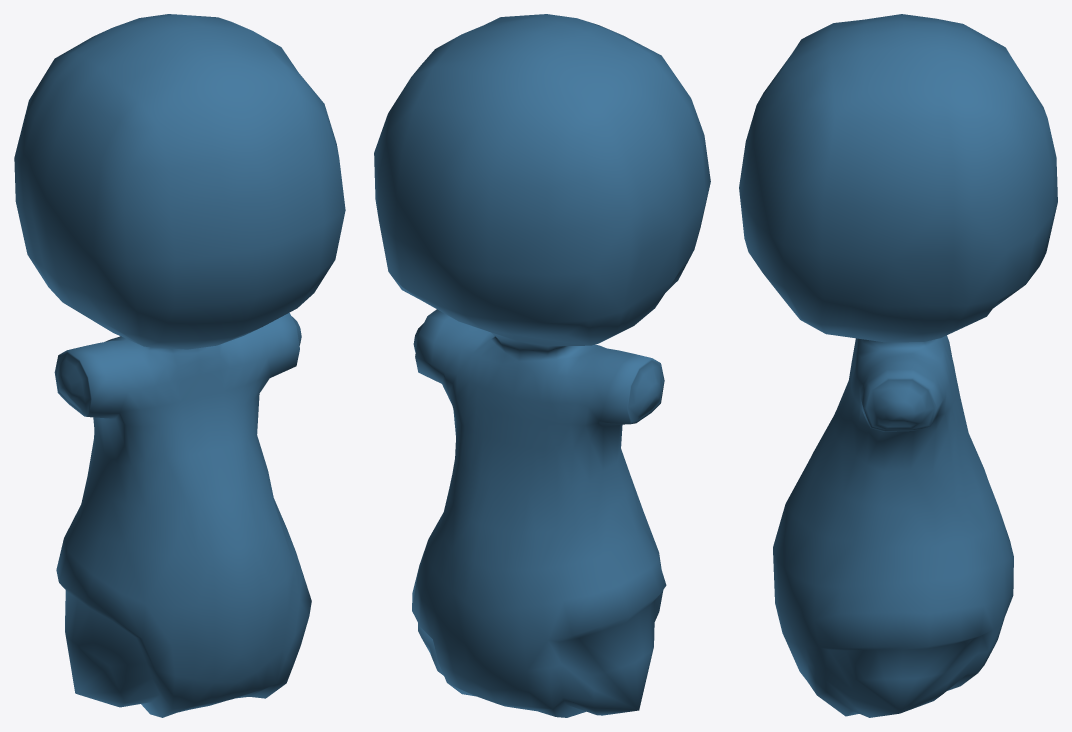
Rendered from Puppe_08_SM.FBX.
3 renders of one model, left to right at view 1: azimuth 30°, elevation 25°; view 2: azimuth 150°, elevation 25°; view 3: azimuth 270°, elevation 25°, orthographic. The views are drawn at different scales.
Visible parts, largest first — view 1: Voodoo 08; view 2: Voodoo 08; view 3: Voodoo 08.
Boxes of the visible parts, x1,y1,x2,y2 form: Voodoo 08: [14, 14, 345, 717]; Voodoo 08: [374, 14, 710, 717]; Voodoo 08: [739, 14, 1057, 717].
Bounding box in the file's own units: 14.87 × 35.03 × 15.38.
